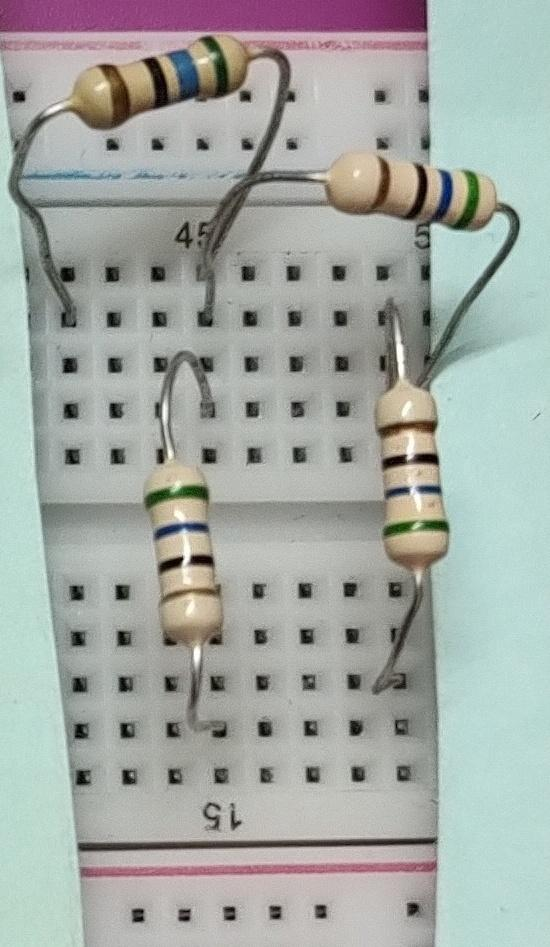resistor: (55, 27, 271, 134), (133, 451, 239, 660), (365, 369, 468, 583), (317, 143, 507, 241)
